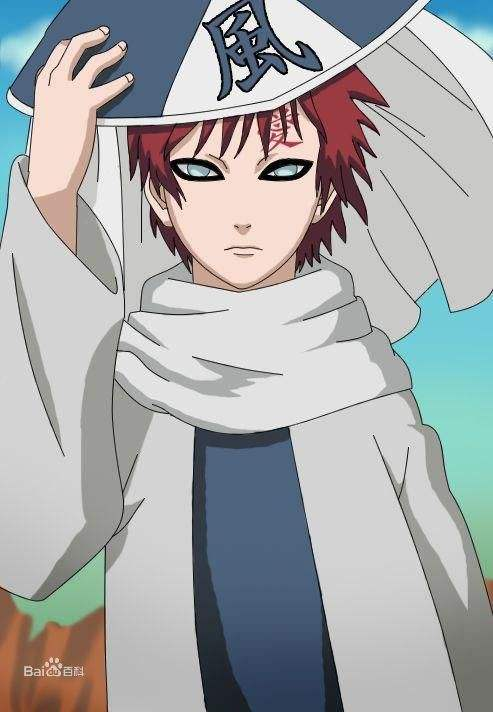gaara: (139, 103, 341, 293)
